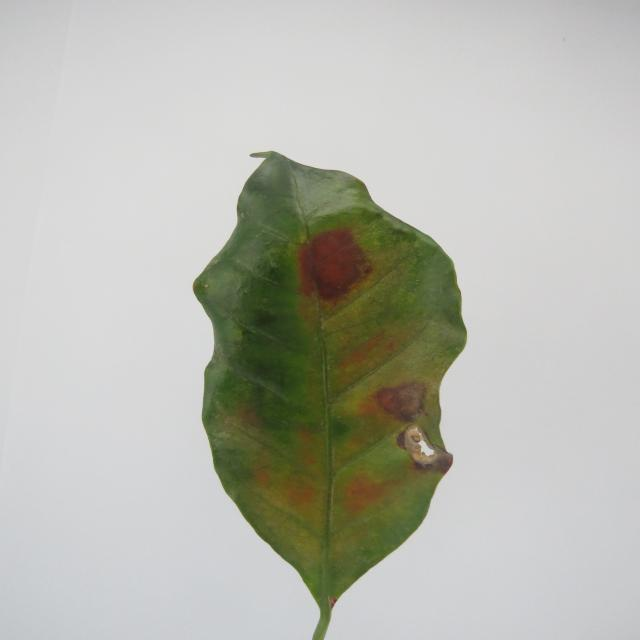DeficienciaNutricional-Potasio: (193, 151, 467, 640)
